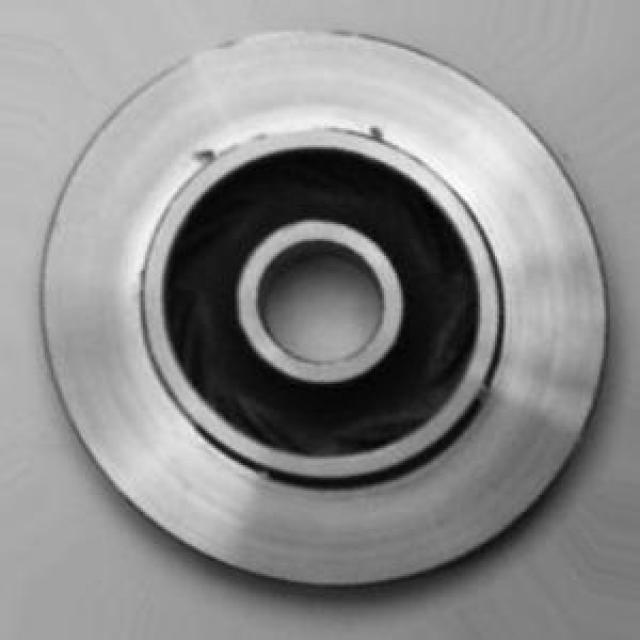Defect: (356, 120, 394, 148)
